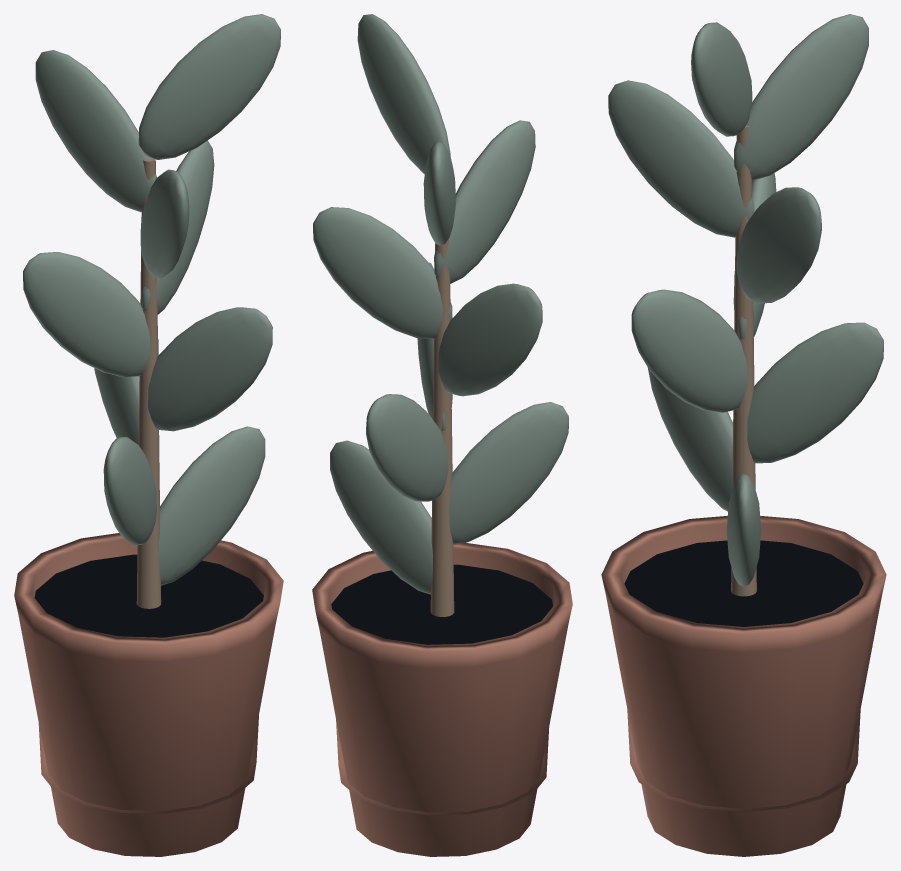
The model's file is room-potted-plant.glb.
3 renders of one model, left to right at view 1: azimuth 30°, elevation 25°; view 2: azimuth 150°, elevation 25°; view 3: azimuth 270°, elevation 25°, orthographic. The views are drawn at different scales.
Visible parts, largest first — view 1: sage, clay, void, wood; view 2: sage, clay, void, wood; view 3: sage, clay, void, wood.
Part boxes in pixels (bbox=[...]): sage: bbox=[23, 14, 280, 585]; clay: bbox=[14, 533, 283, 856]; void: bbox=[34, 554, 263, 637]; wood: bbox=[136, 157, 161, 608]; sage: bbox=[313, 14, 568, 594]; clay: bbox=[312, 542, 572, 856]; void: bbox=[331, 564, 552, 644]; wood: bbox=[430, 238, 454, 616]; sage: bbox=[608, 14, 883, 586]; clay: bbox=[601, 516, 886, 856]; void: bbox=[624, 540, 863, 626]; wood: bbox=[731, 125, 756, 596].
Bounding box in the file's own units: 0.198 × 0.6394 × 0.198.
